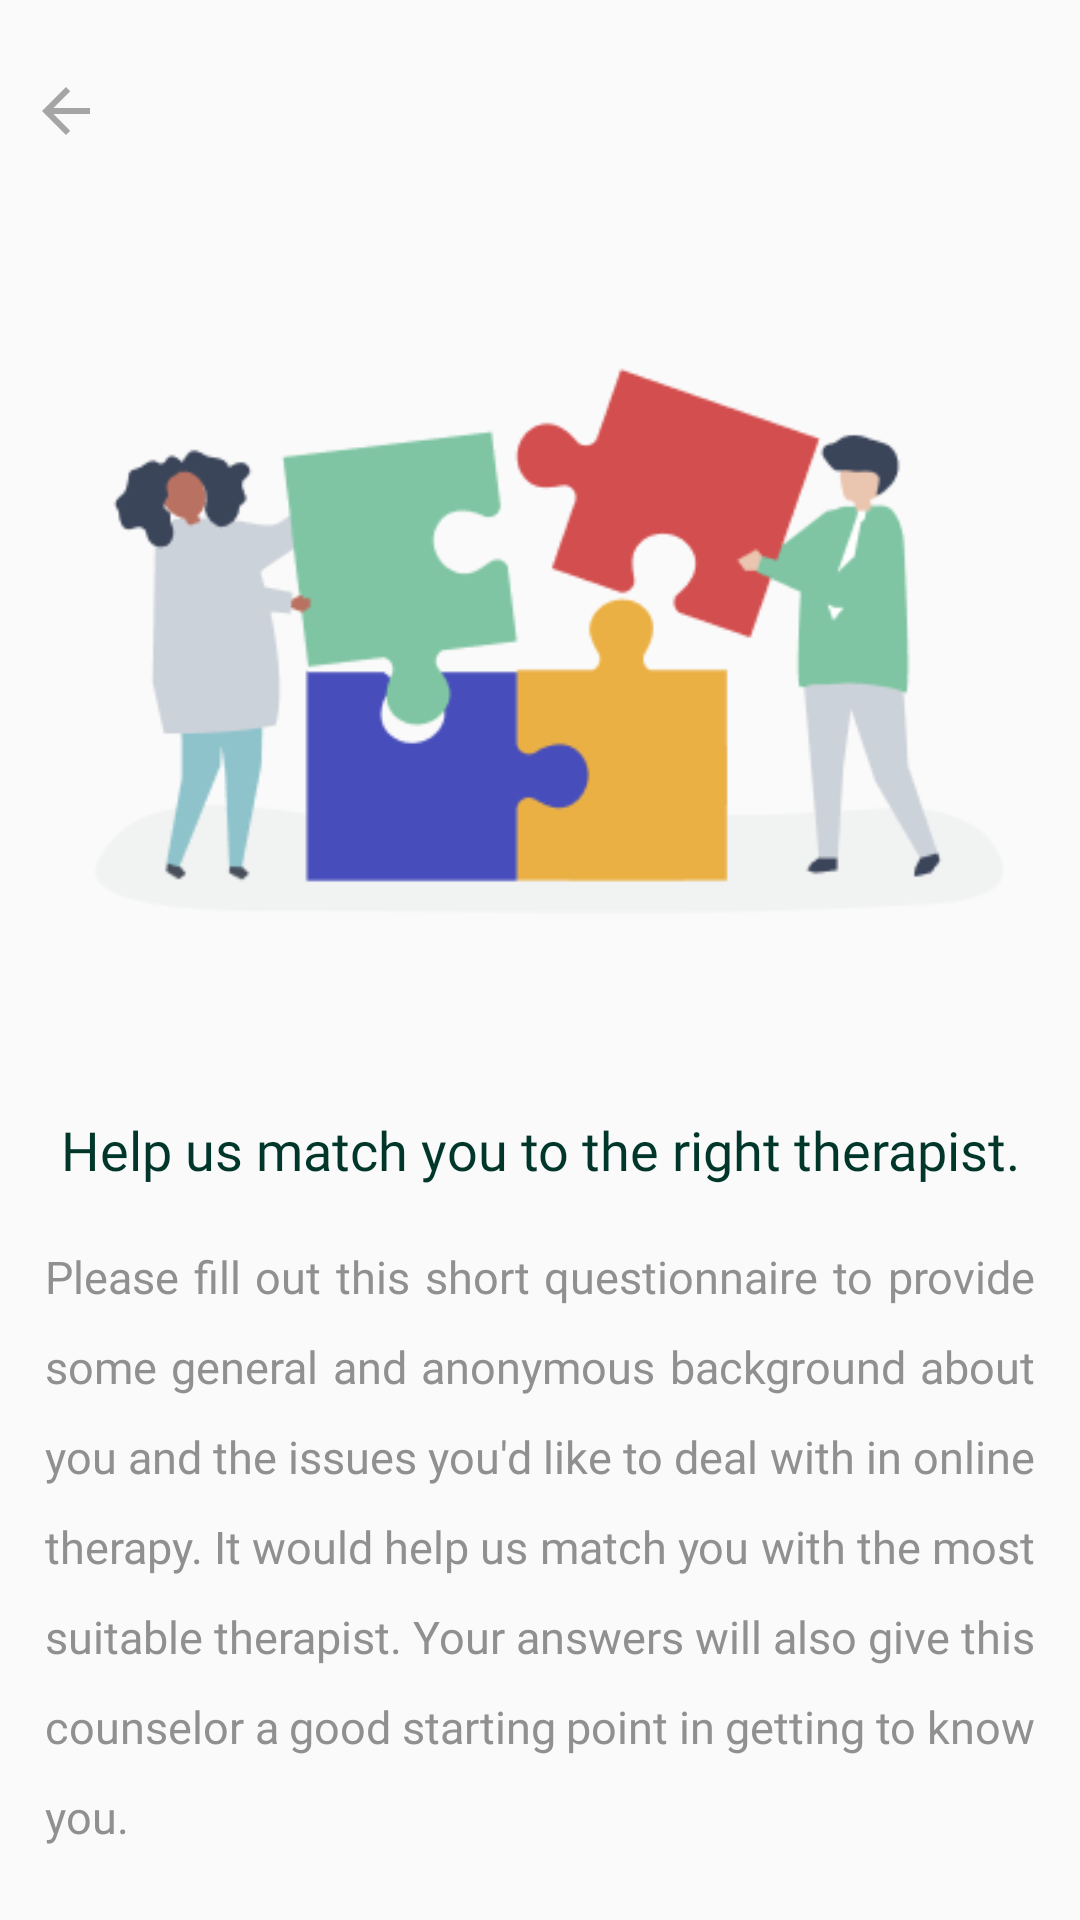

Icon click points for this 1080 × 1920 phone screenshot, format (x,y):
back: (66,111)
